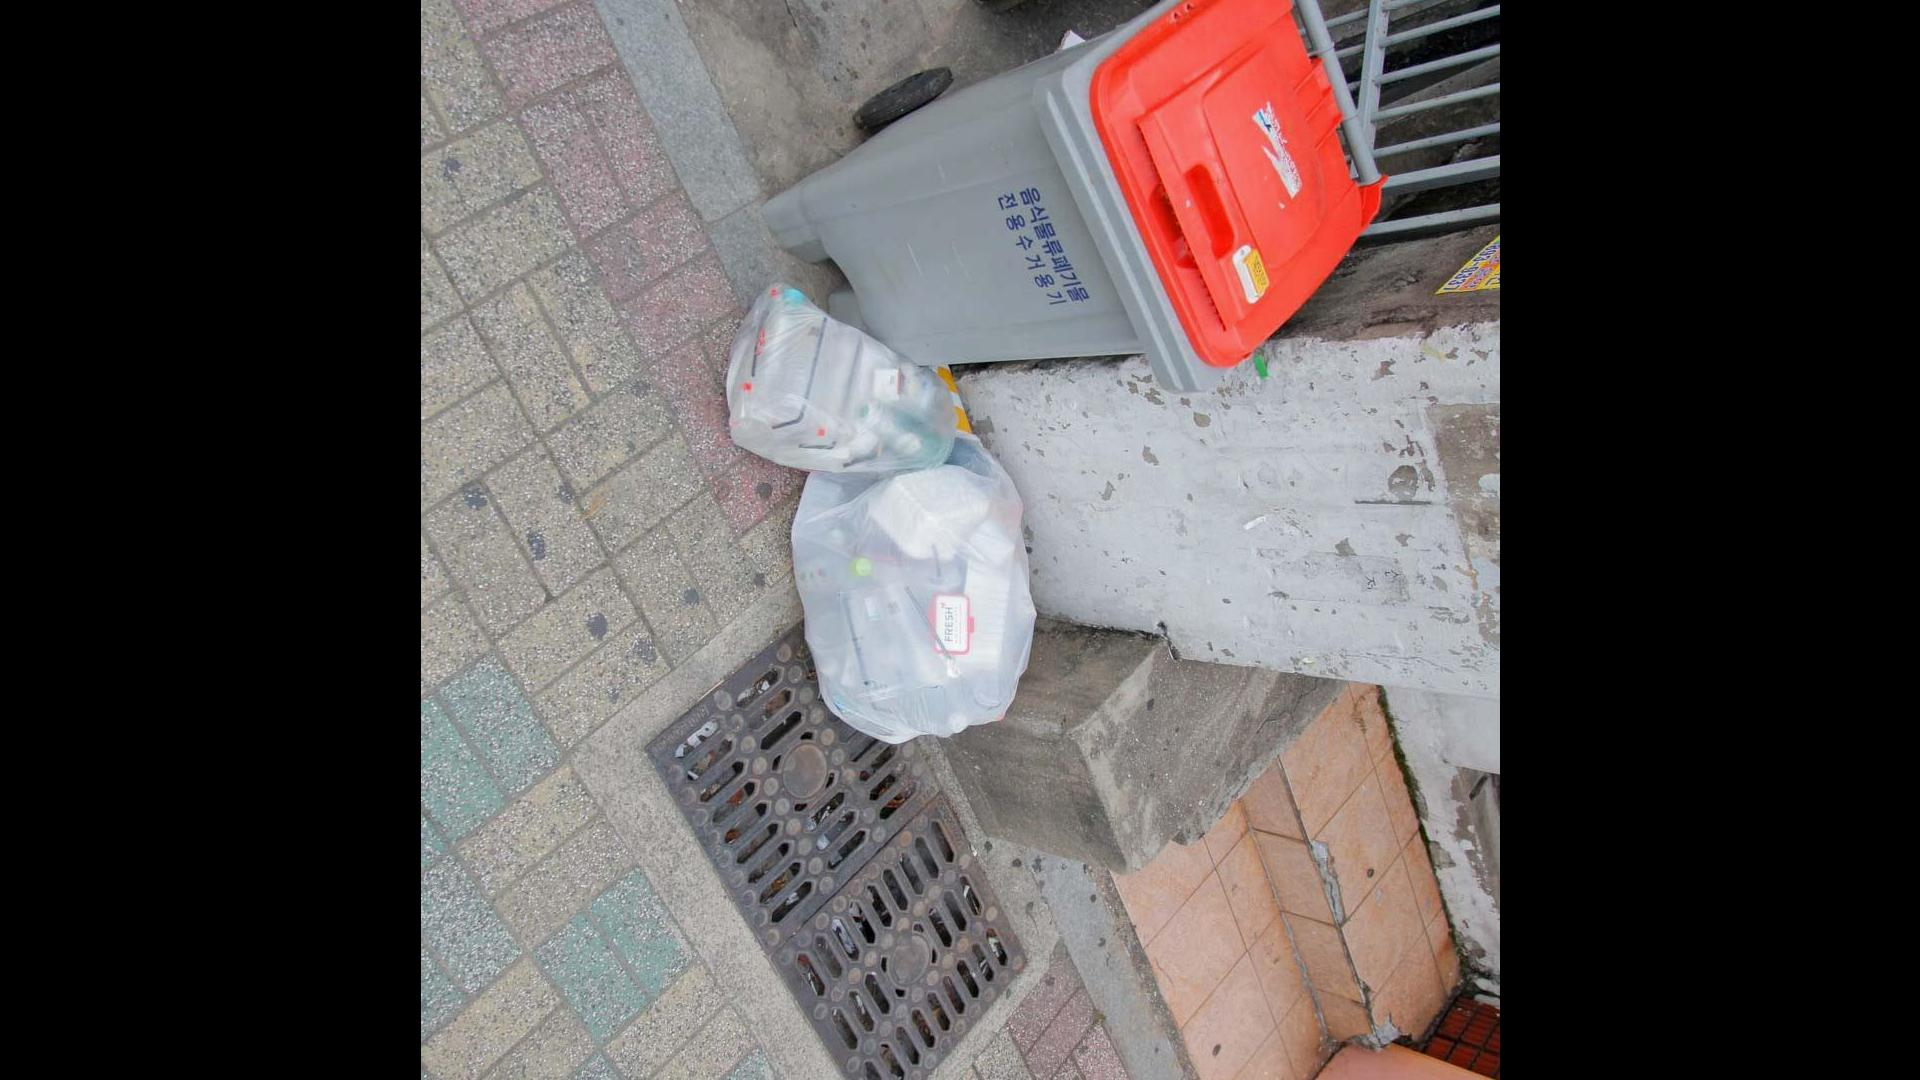white_bag: (789, 425, 1048, 745), (713, 266, 972, 483)
